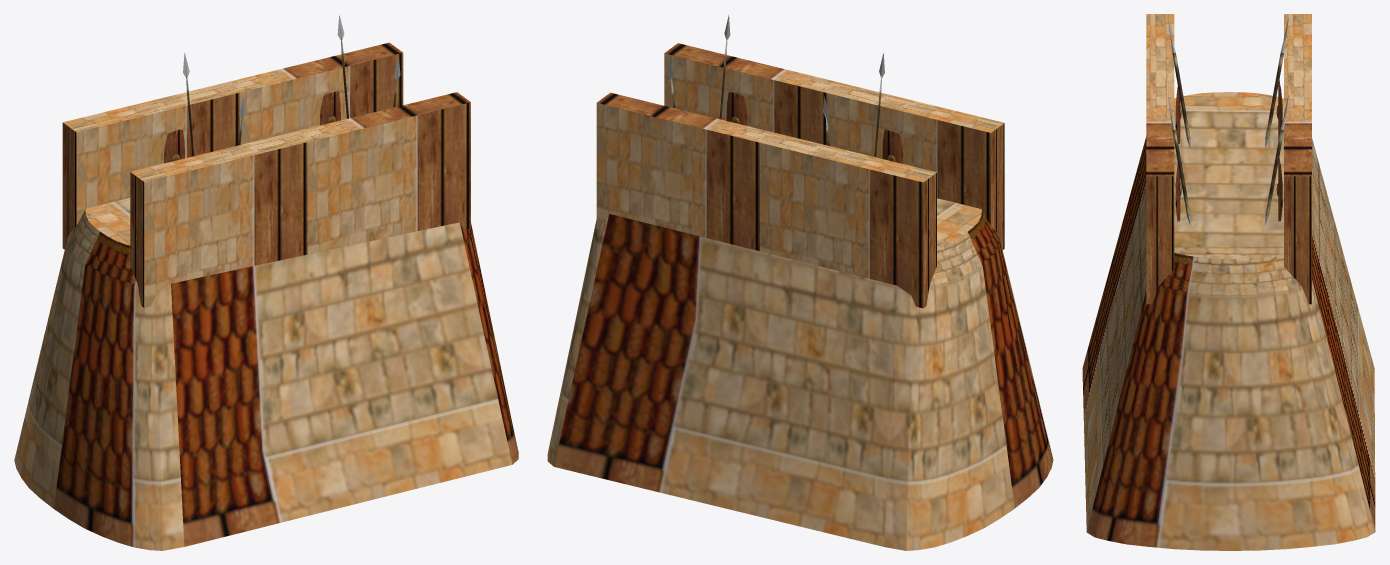
Rendered from wall_medium.dae.
3 renders of one model, left to right at view 1: azimuth 30°, elevation 25°; view 2: azimuth 150°, elevation 25°; view 3: azimuth 270°, elevation 25°, orthographic.
Visible parts, largest first — view 1: wall_medium; view 2: wall_medium; view 3: wall_medium.
Boxes of the visible parts, x1,y1,x2,y2 form: wall_medium: (14,15,518,550); wall_medium: (547,15,1053,550); wall_medium: (1082,14,1375,550).
Size of the model in its own units: 18.97 by 11.09 by 16.83.
